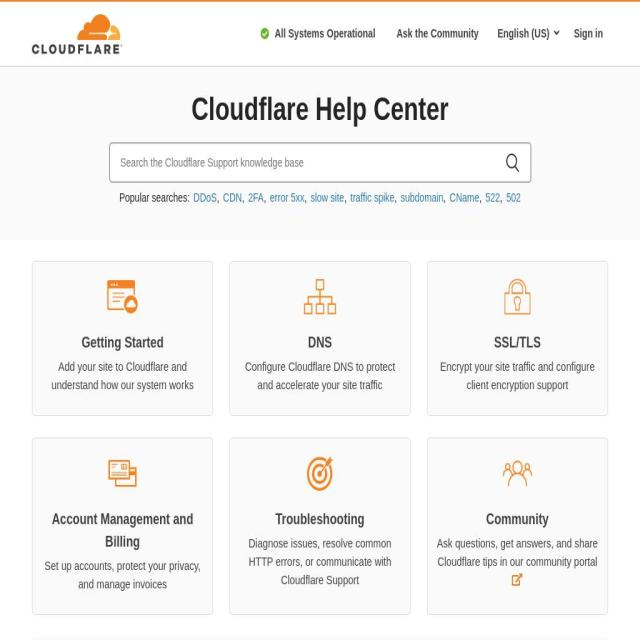button: (33, 438, 213, 614), (230, 438, 410, 610), (427, 438, 607, 610), (33, 262, 213, 415), (230, 262, 410, 415), (427, 262, 607, 415), (251, 2, 385, 66), (387, 2, 488, 66), (488, 1, 570, 67), (569, 2, 608, 66)
field: (110, 145, 504, 180), (504, 145, 529, 180)
heading: (109, 91, 531, 128), (42, 508, 205, 554), (239, 508, 401, 531), (436, 508, 598, 531), (42, 332, 205, 354), (239, 332, 401, 354), (436, 332, 598, 354)
image: (32, 14, 122, 54), (103, 270, 143, 323), (300, 270, 340, 323), (103, 447, 143, 500), (300, 447, 340, 500), (497, 447, 537, 500), (501, 270, 534, 323)
link: (239, 534, 401, 589), (42, 358, 205, 394), (42, 557, 205, 593), (239, 358, 401, 394), (436, 358, 598, 394), (350, 191, 397, 204), (400, 191, 446, 204), (269, 191, 307, 204), (310, 191, 347, 204), (450, 191, 482, 204), (193, 191, 219, 204), (222, 191, 245, 204), (248, 191, 267, 204), (485, 191, 503, 204), (506, 191, 520, 204)
text: (437, 536, 599, 568), (117, 189, 192, 207), (274, 27, 376, 40)
